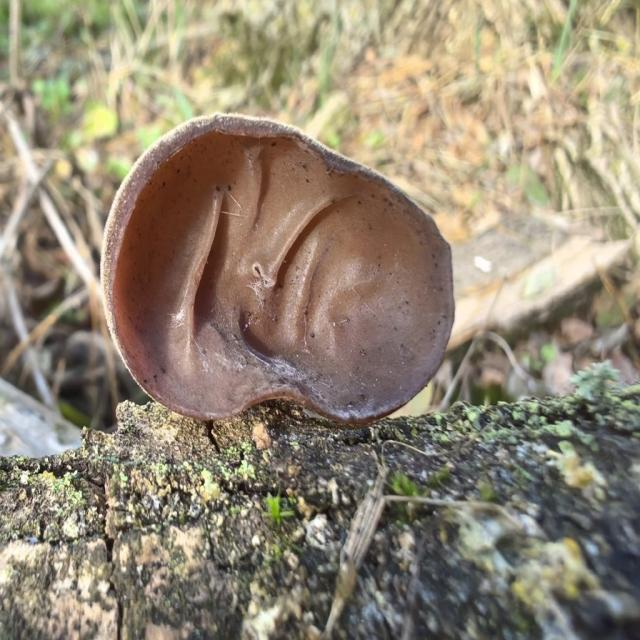Matang: (98, 111, 458, 432)
